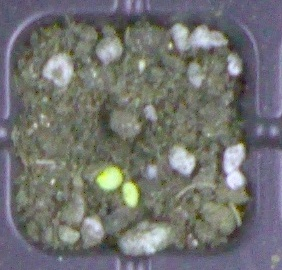chilli seed: (96, 166, 123, 191), (122, 181, 139, 207)
